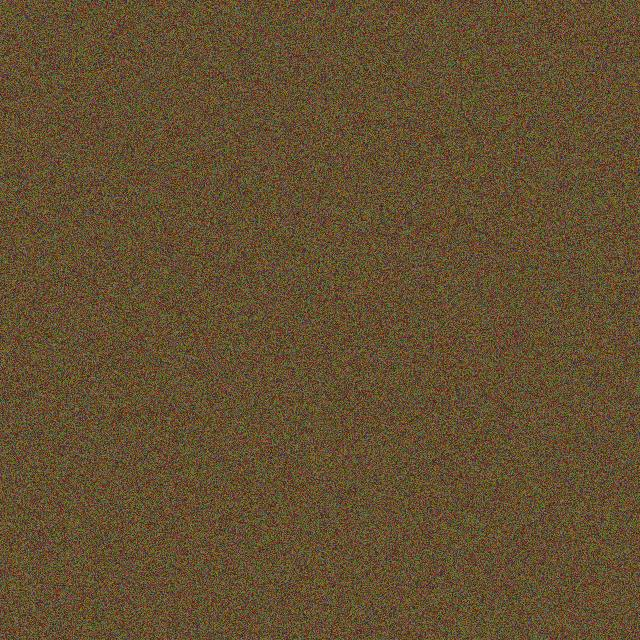human: (128, 393, 213, 465)
